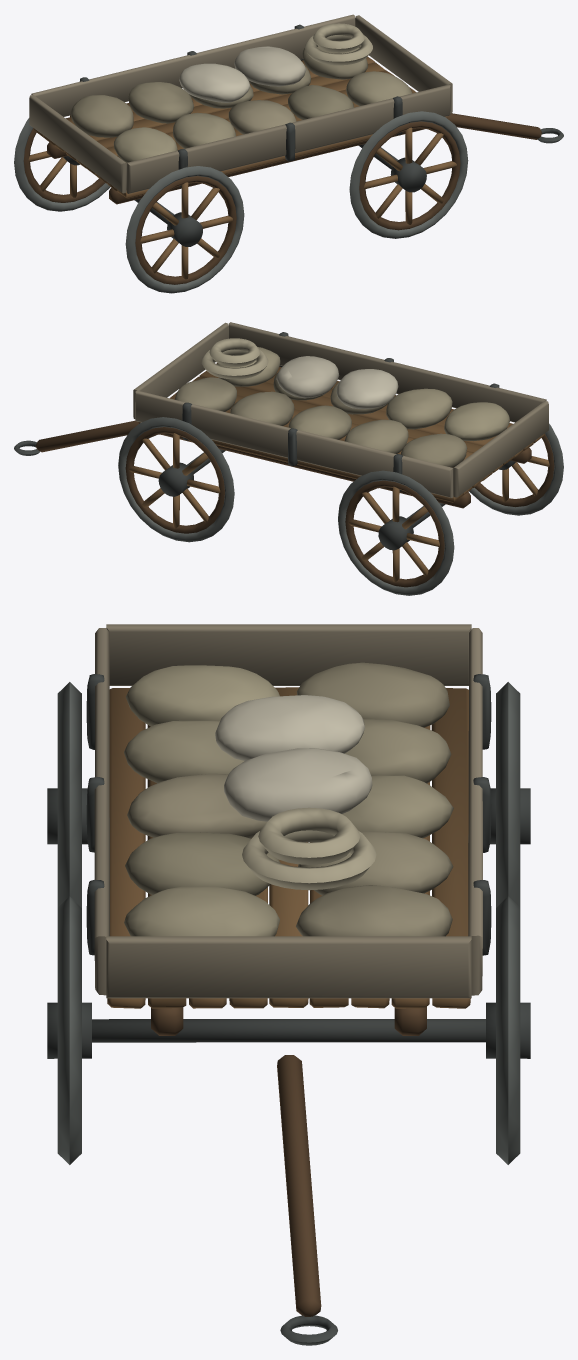
The model's file is haul_wagon_a_lod1.glb.
3 views of the same model, one above another, from view 1: azimuth 30°, elevation 25°; view 2: azimuth 150°, elevation 25°; view 3: azimuth 270°, elevation 25° (orthographic). The views are drawn at different scales.
Parts seen in each view (by area): view 1: Surface.001; view 2: Surface.001; view 3: Surface.001.
Part boxes in pixels (bbox=[...]): Surface.001: bbox=[14, 14, 563, 293]; Surface.001: bbox=[14, 322, 563, 595]; Surface.001: bbox=[47, 624, 530, 1345].
Size of the model in its own units: 5.56 by 1.73 by 2.38.
